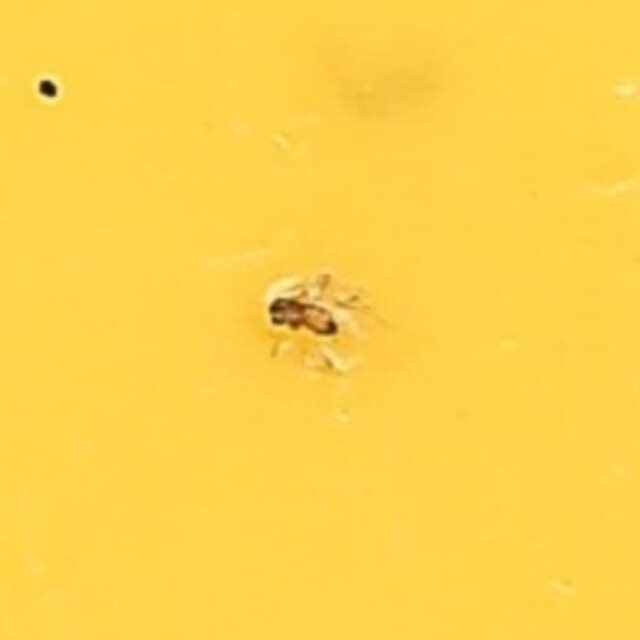Araneae: (267, 269, 373, 371)
